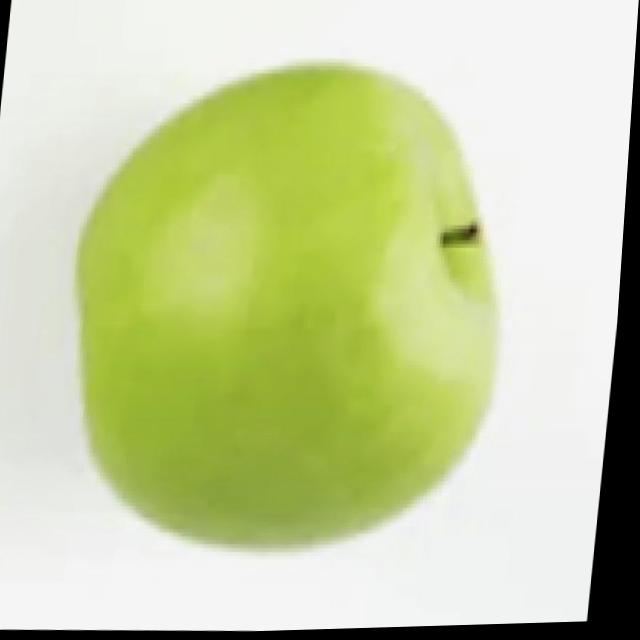Apple: (51, 54, 530, 571)
